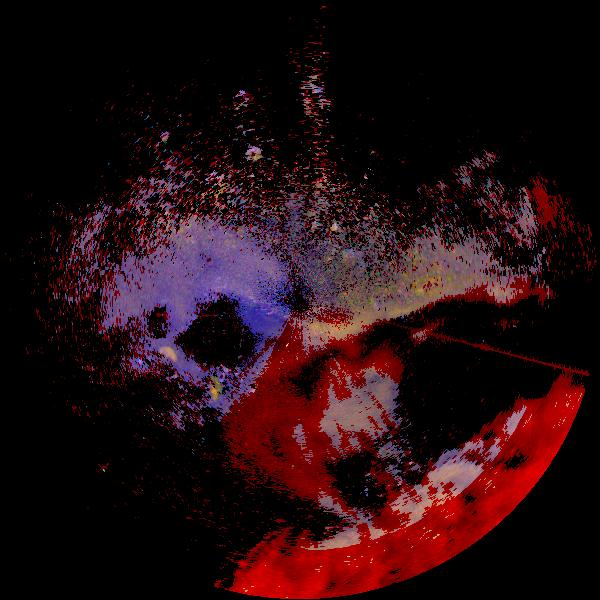roost: (156, 353, 228, 425), (141, 340, 195, 394)
